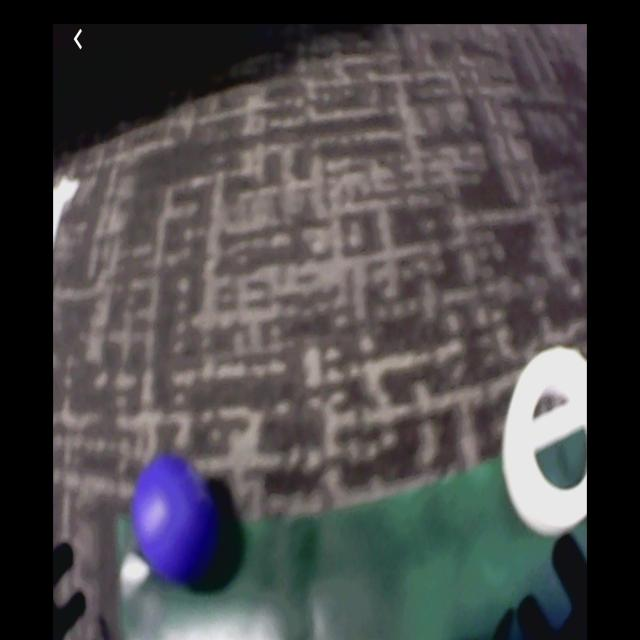ball: (134, 458, 216, 576)
